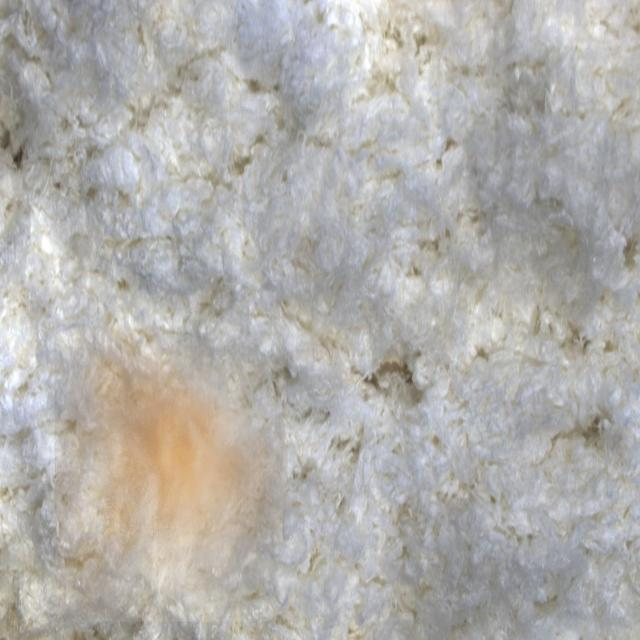dust: (55, 325, 288, 622)
